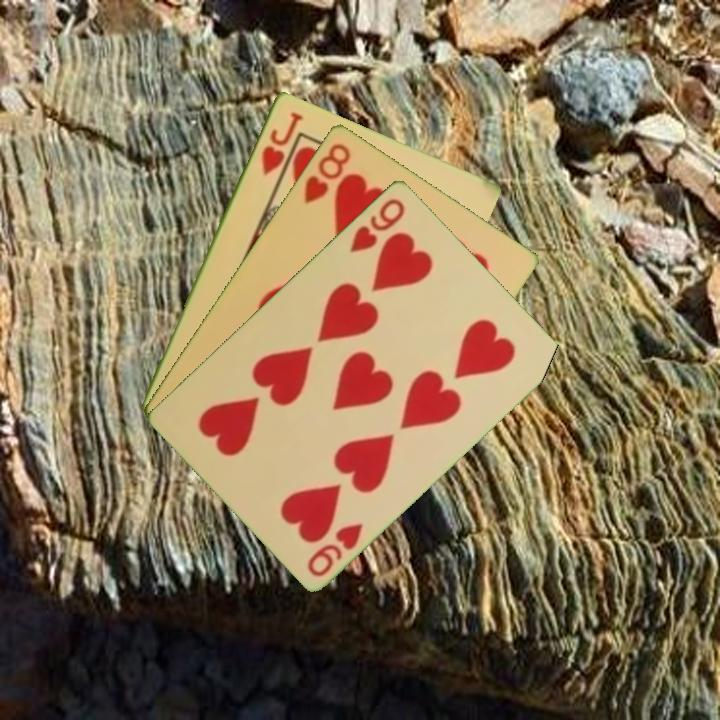8h: (300, 139, 354, 207)
9h: (304, 518, 367, 580), (346, 194, 408, 255)
Jh: (257, 107, 306, 178)
